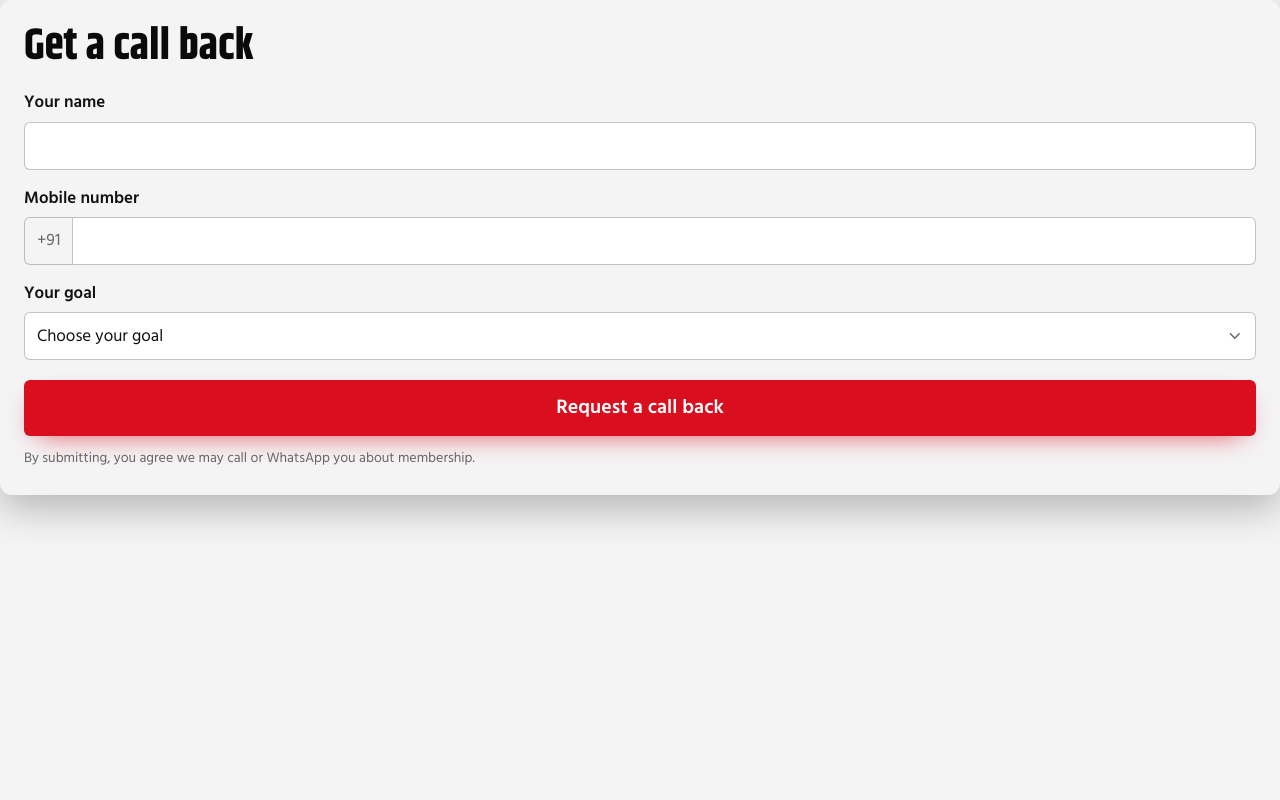
Test: LeadForm › shows field errors returned by the server
Step 1. Type "Priya Sharma" into the field labelled "Your name" → (640, 146), box [24,122,1256,170]
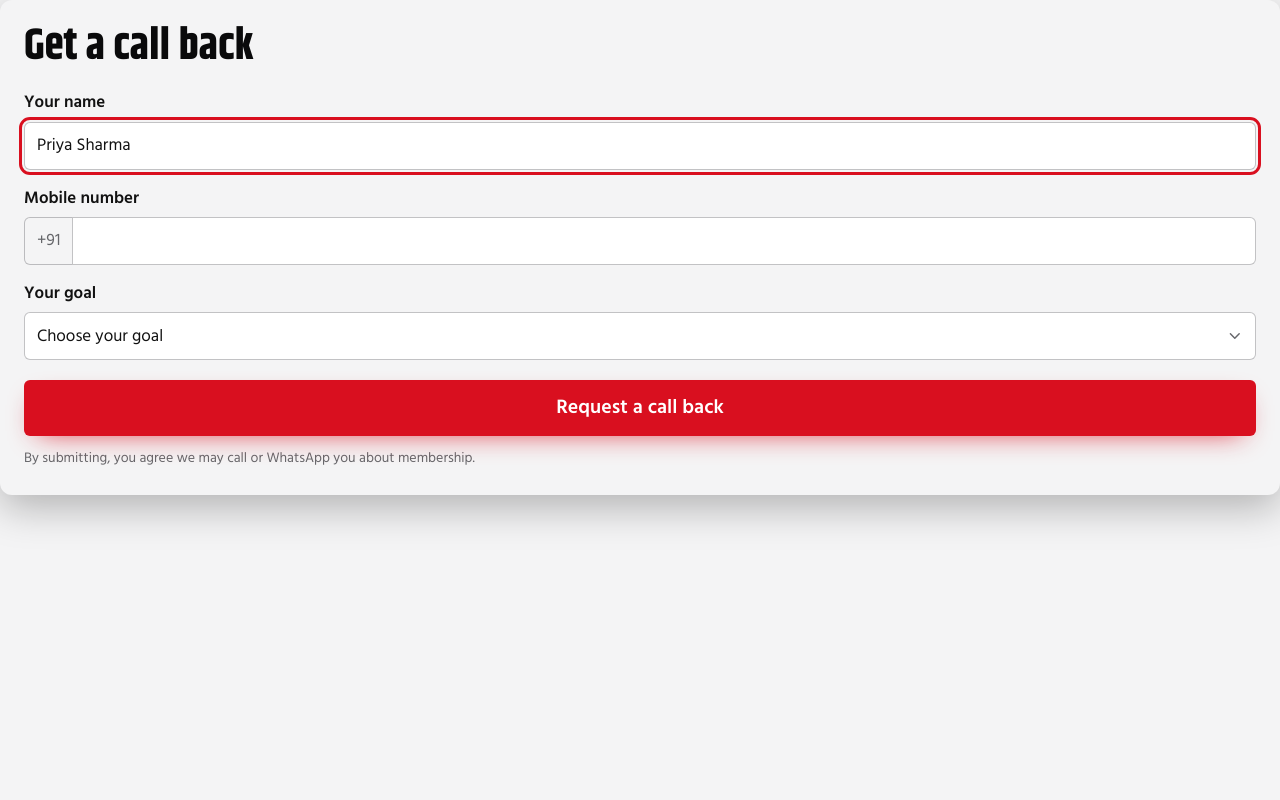
Step 2. Type "9876543210" into the field labelled "Mobile number" → (664, 241), box [72,217,1256,265]
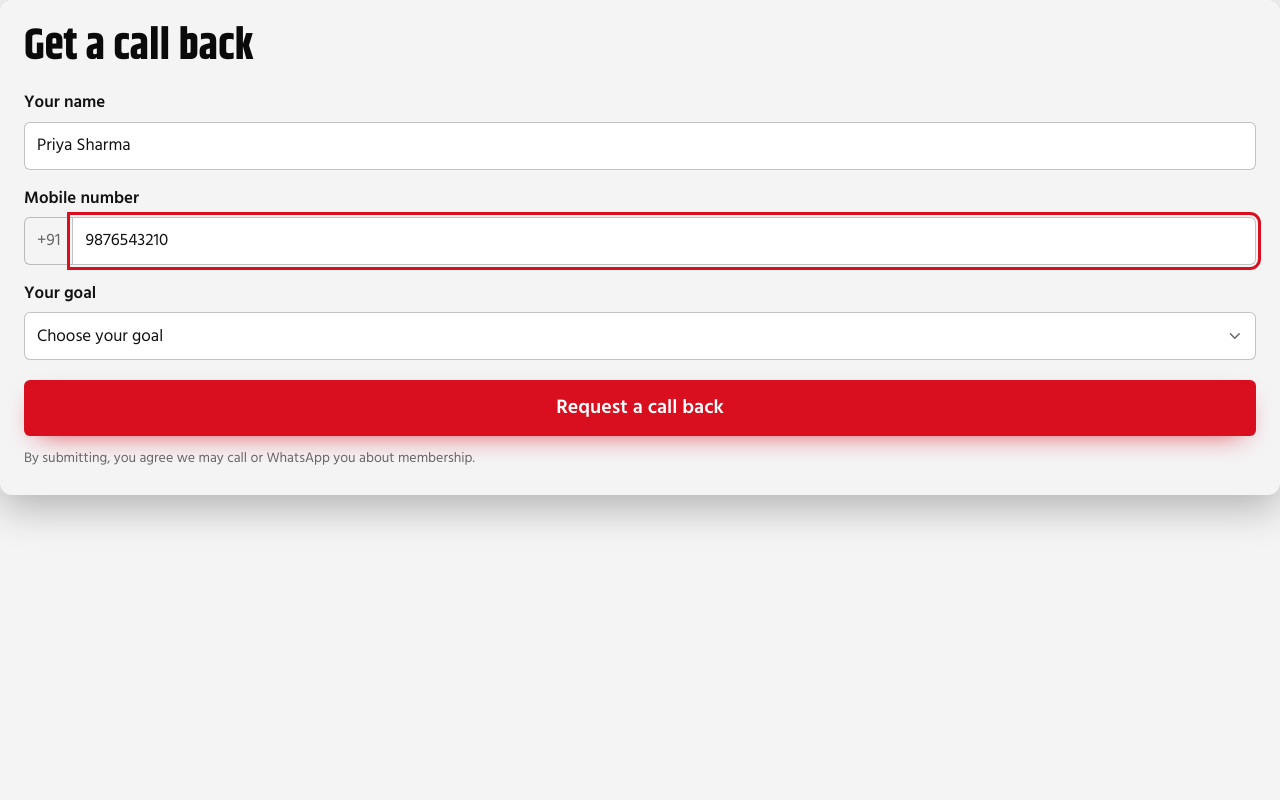
Step 3. Select "Get fit and active" in the dropdown labelled "Your goal" → (640, 336), box [24,312,1256,360]
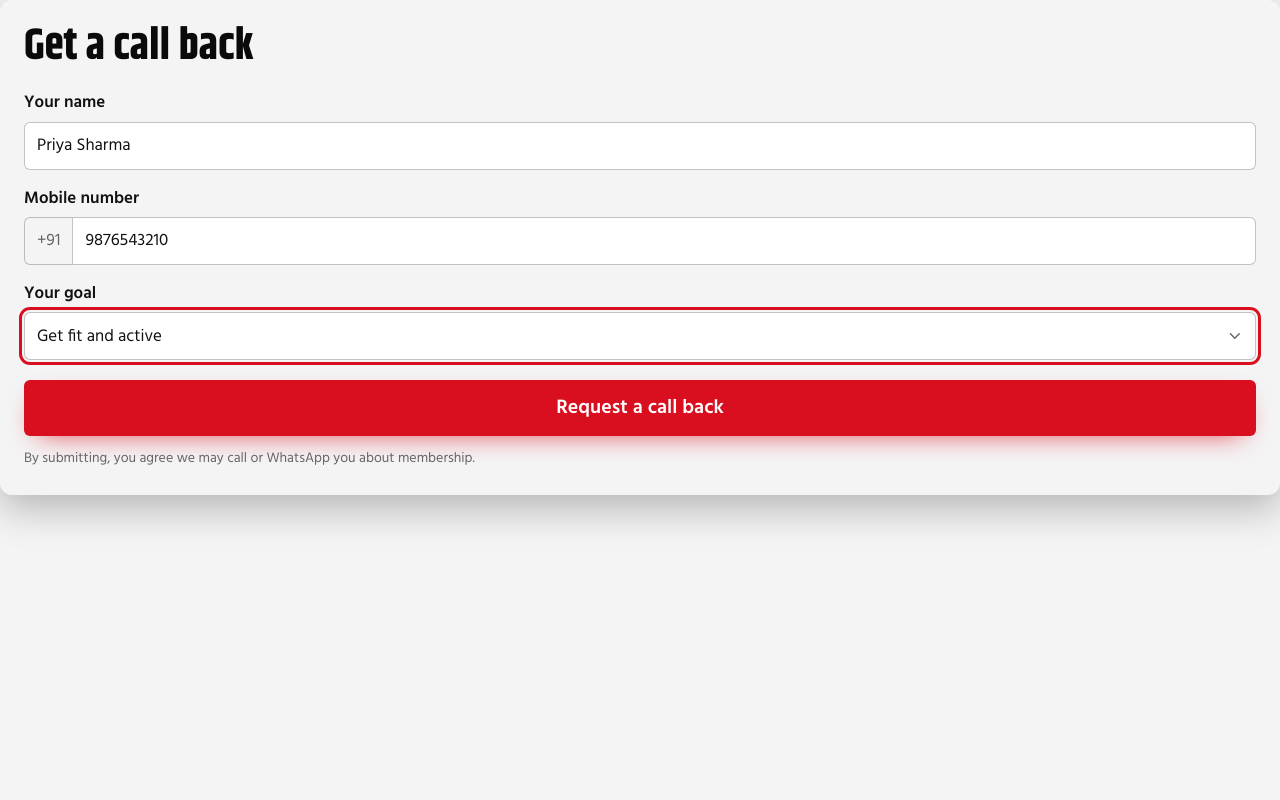
Step 4. Click the button "Request a call back" → (640, 408), box [24,380,1256,436]
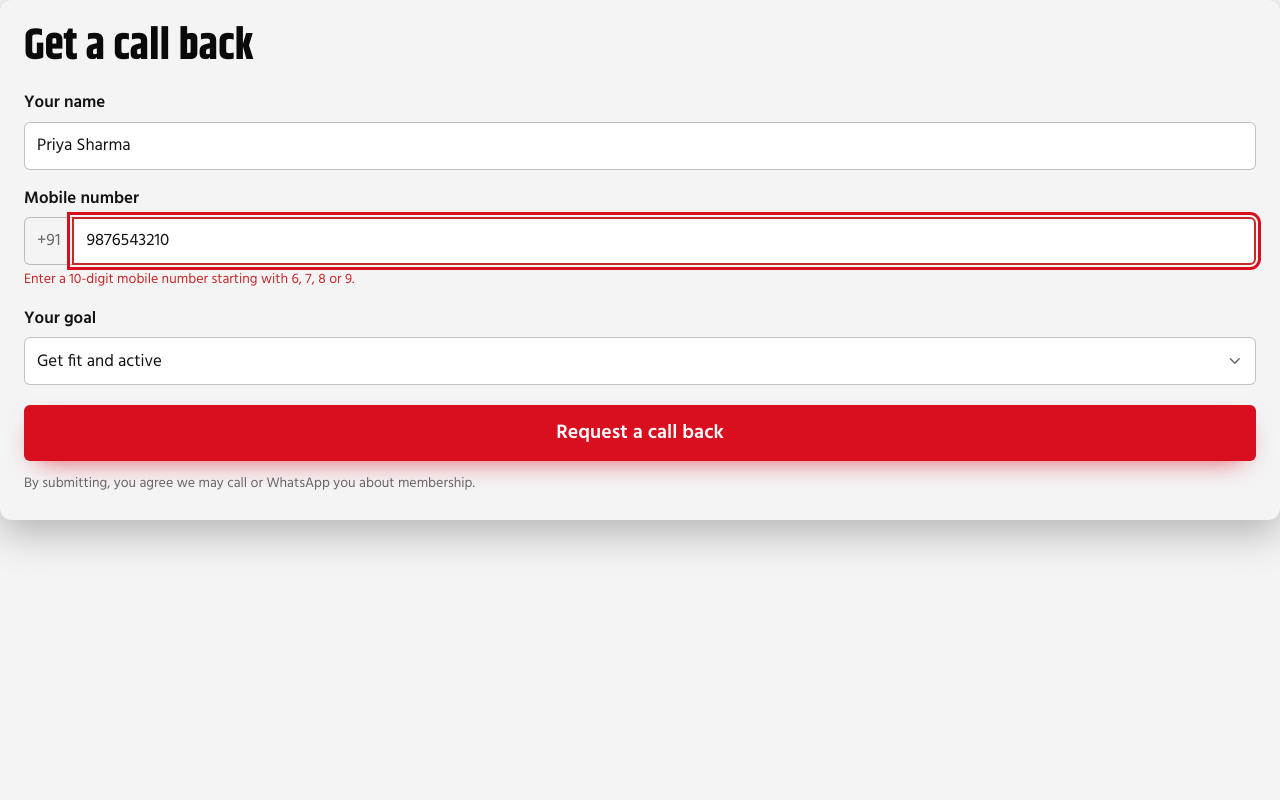
Expected: the text "Enter a 10-digit mobile number starting with 6, 7, 8 or 9." is shown, [24,268,354,291]
